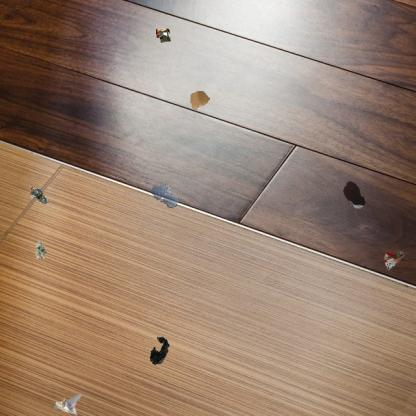dirty: (148, 334, 172, 367), (53, 394, 82, 416), (28, 185, 49, 206), (384, 250, 404, 271), (190, 90, 210, 110), (154, 26, 174, 45), (34, 238, 48, 260)
liquid: (150, 182, 180, 209), (342, 180, 366, 211)
